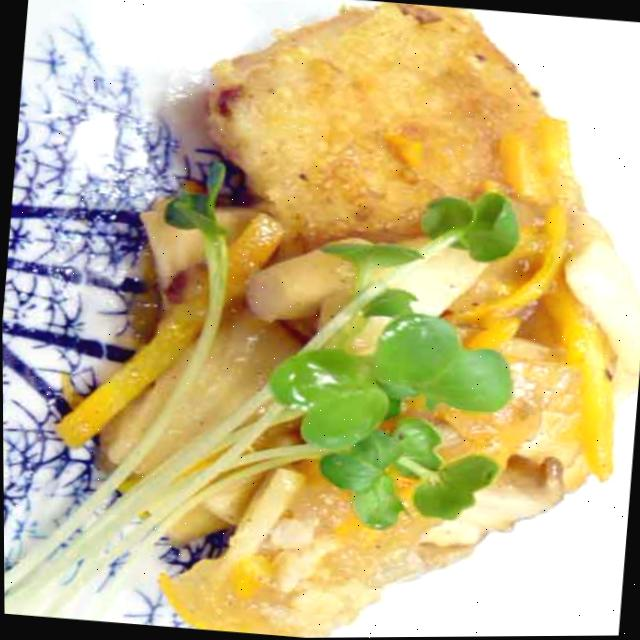熟制海鲜: (56, 0, 640, 640)
